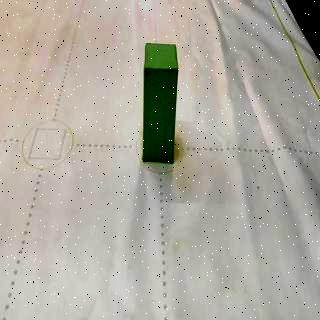greenbox: (140, 41, 180, 166)
